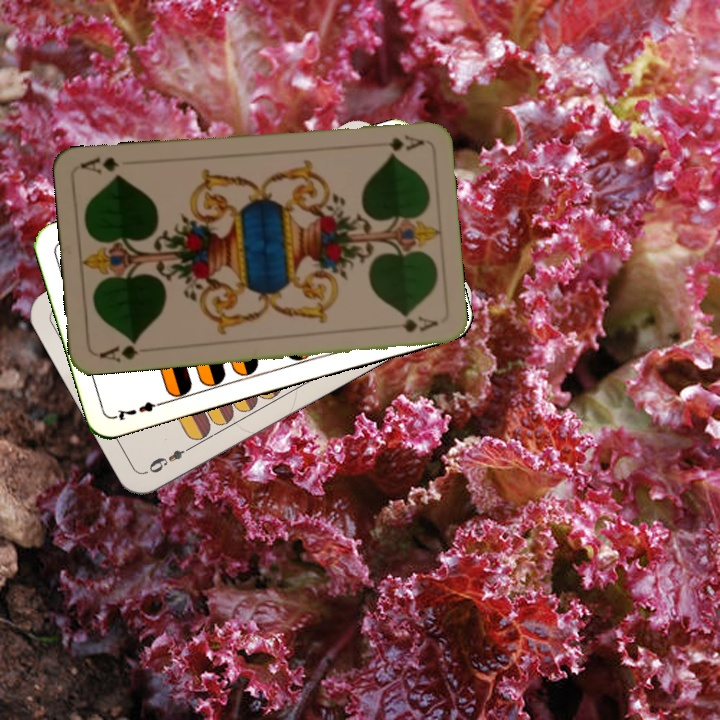E7: (111, 397, 169, 423)
E9: (144, 441, 197, 476)
GA: (367, 130, 426, 153), (95, 335, 141, 364)
